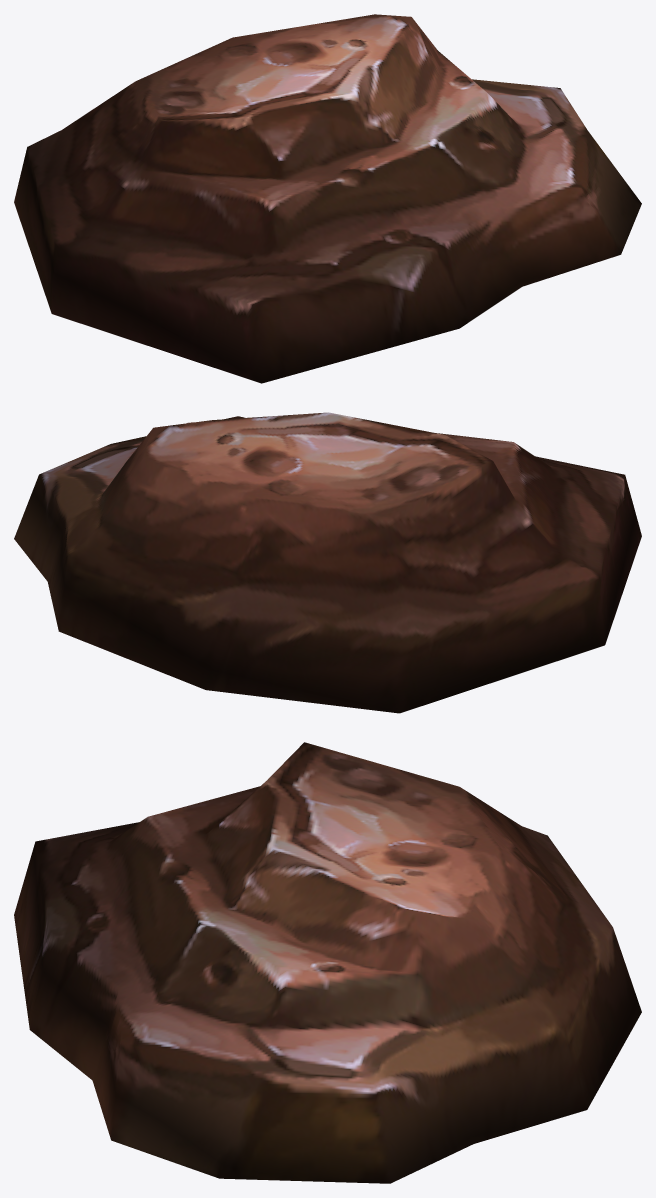
Rendered from yuntie01.FBX.
3 renders of one model, top to bottom at view 1: azimuth 30°, elevation 25°; view 2: azimuth 150°, elevation 25°; view 3: azimuth 270°, elevation 25°, orthographic. The views are drawn at different scales.
Parts seen in each view (by area): view 1: yuntie01; view 2: yuntie01; view 3: yuntie01.
Part boxes in pixels (x1=…): yuntie01: x1=14, y1=14, x2=641, y2=383; yuntie01: x1=14, y1=412, x2=641, y2=713; yuntie01: x1=14, y1=742, x2=641, y2=1183.
Bounding box in the file's own units: 76.39 × 21.04 × 63.9.
